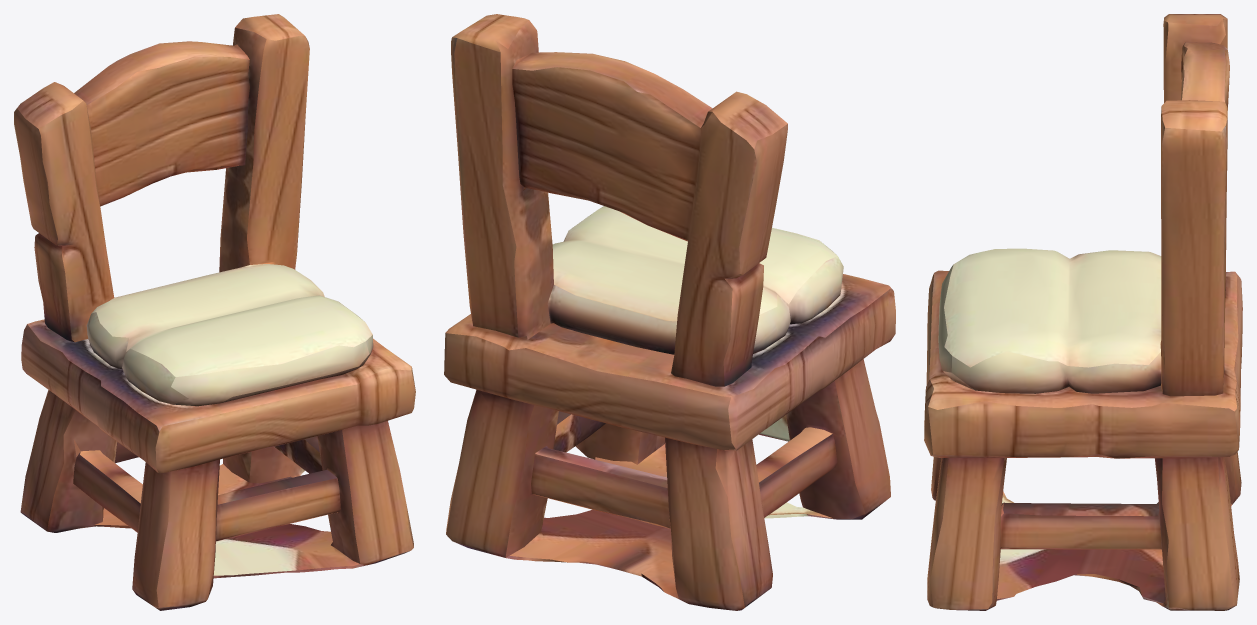
Rendered from chair.glb.
The picture shows the model from 3 angles, left to right: view 1: azimuth 30°, elevation 25°; view 2: azimuth 150°, elevation 25°; view 3: azimuth 270°, elevation 25°; orthographic projection. The views are drawn at different scales.
Visible parts, largest first — view 1: chair_s41; view 2: chair_s41; view 3: chair_s41.
Part boxes in pixels (<box>): chair_s41: <box>14,14,415,610</box>; chair_s41: <box>444,14,895,610</box>; chair_s41: <box>924,14,1242,610</box>.
Bounding box in the file's own units: 0.6378 × 1 × 0.584.
Materials: 1 (1 with a texture image).
